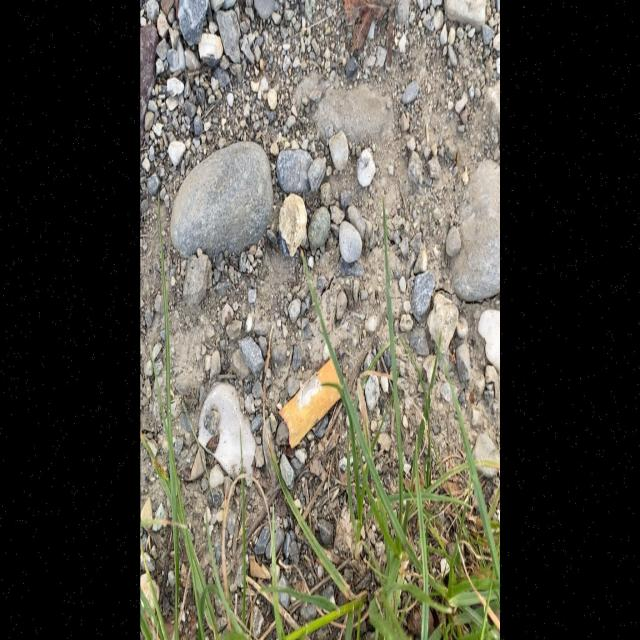other waste: (277, 357, 343, 452)
